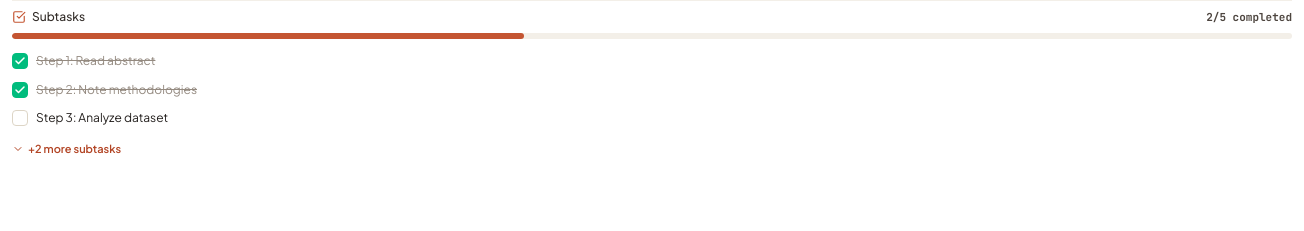
Test: Phase 4C.1: Inline Subtask Completion on Kanban Cards › collapses subtasks when more than 3 exist and allows expanding inline
This screenshot has width=1304, height=231.
Expected: the text "Step 1: Read abstract" is shown, [36,53,155,68]
Expected: the text "Step 2: Note methodologies" is shown, [36,82,197,96]
Note: Click expand
Click the button "+2 more subtasks" at x=67, y=148, box [12,138,121,157]
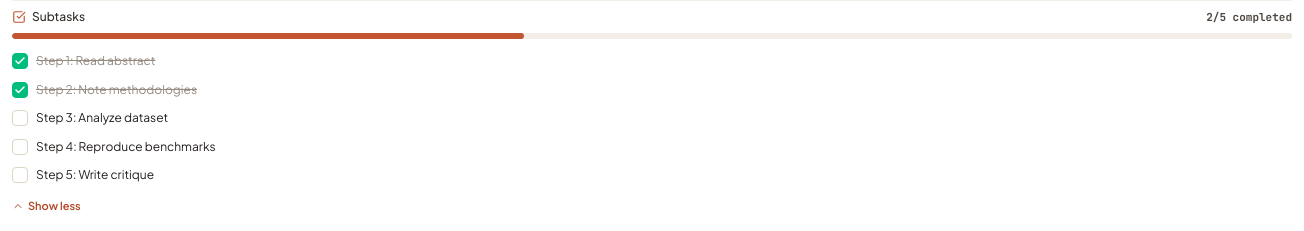
Now the text "Step 4: Reproduce benchmarks" is shown, box [36,138,216,154]
Now the text "Step 5: Write critique" is shown, box [36,167,154,182]
Now the button "Show less" is shown, box [12,196,81,214]
